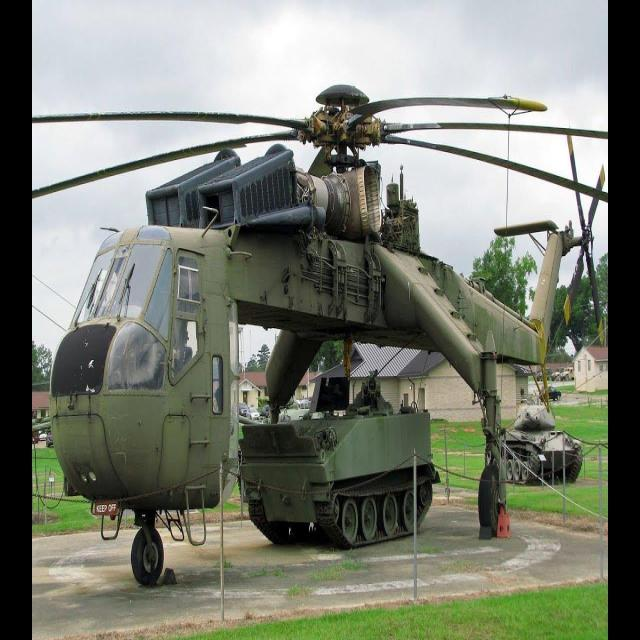Tanks: (240, 394, 437, 545), (507, 398, 583, 490)
